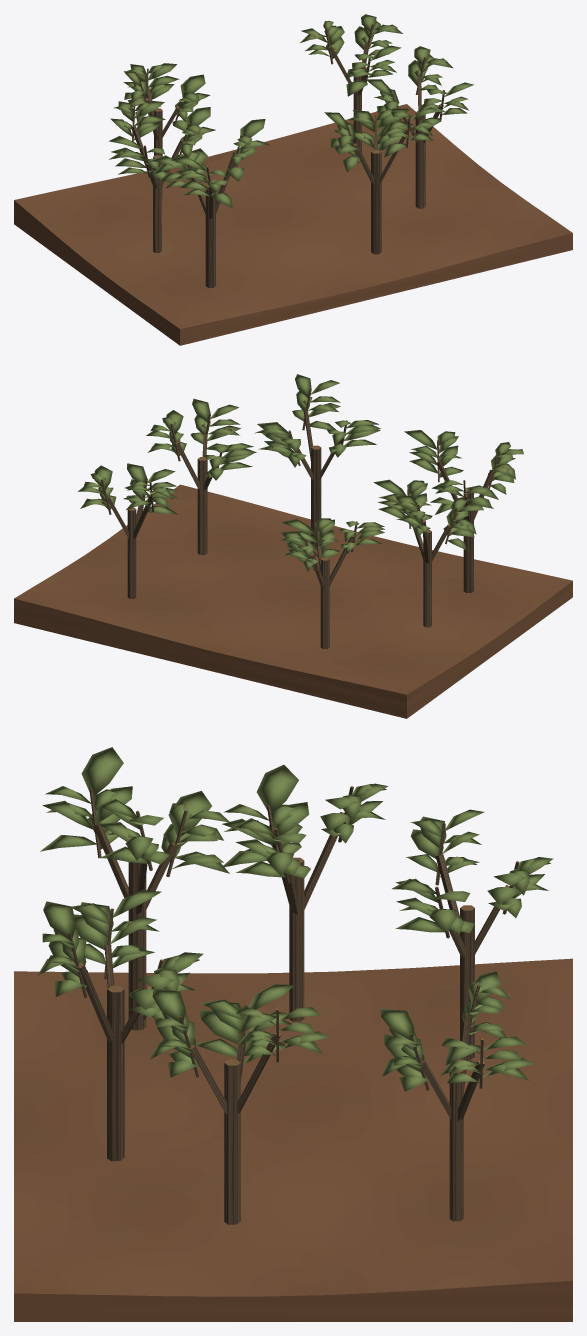
The model's file is wellington.glb.
The picture shows the model from 3 angles, top to bottom: view 1: azimuth 30°, elevation 25°; view 2: azimuth 150°, elevation 25°; view 3: azimuth 270°, elevation 25°; orthographic projection. The views are drawn at different scales.
Parts seen in each view (by area): view 1: wellington; view 2: wellington; view 3: wellington.
Part boxes in pixels (x1=…): wellington: x1=14, y1=14, x2=572, y2=345; wellington: x1=14, y1=374, x2=572, y2=718; wellington: x1=14, y1=747, x2=572, y2=1321.
Bounding box in the file's own units: 7.1 × 2.88 × 5.2.
Materials: 1 (1 with a texture image).
